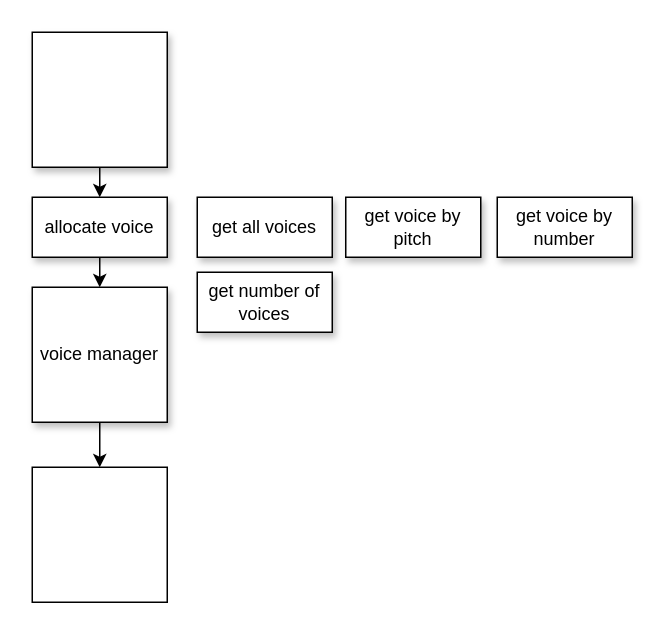
This 668x629 diagram has some shape labels left out. The centre of each missing label's shape, as x and y in pixels:
"output voice number, pitch, velocity" belongs at point (99, 534).
"receive voice" belongs at point (100, 101).
